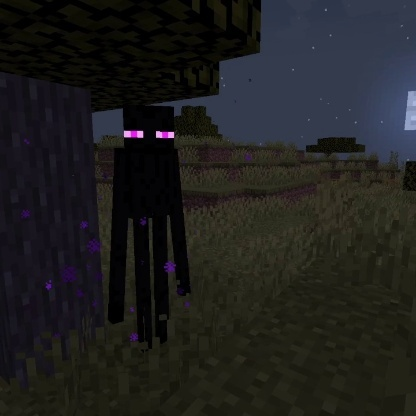enderman: (105, 102, 196, 355)
